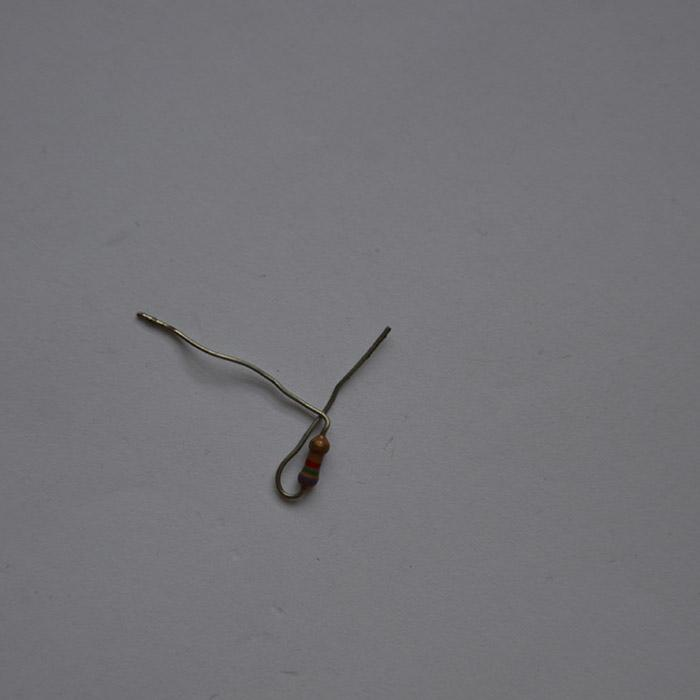resistor: (298, 434, 330, 487)
